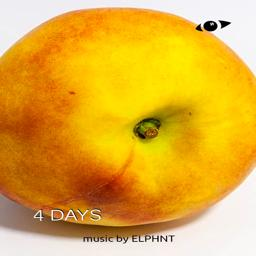Peach Fresh: (0, 5, 256, 225)
